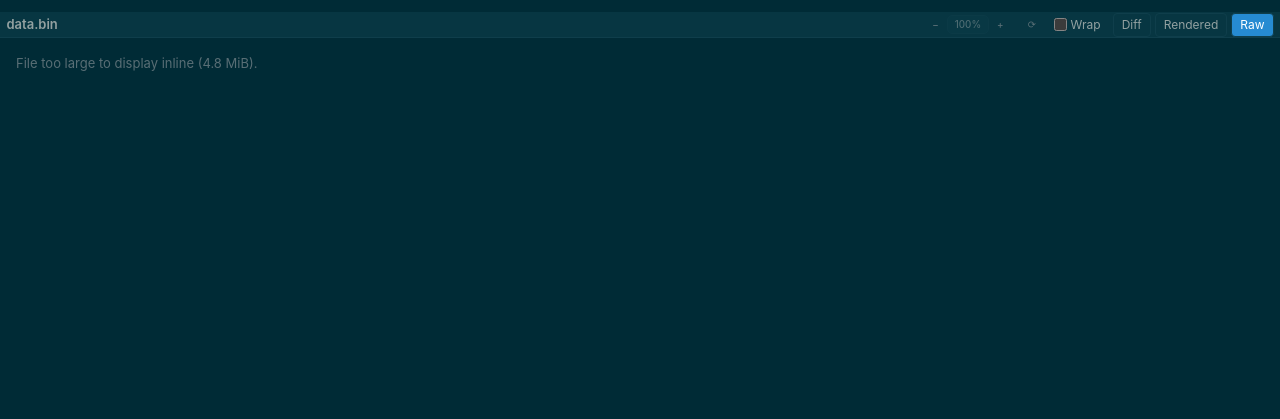
Test: ContentViewer › text-like Rendered vs Raw split (RawFile `highlight` prop) › too-large: Raw keeps its plain message; Rendered shows the graceful placeholder, from one read (no full-byte-read)
The width and height of the screenshot is (1280, 419).
Expected: the text "File too large to display inline (4.8 MiB)." is shown, [16, 55, 258, 71]
Click the tab "Rendered" at (1191, 24), box [1155, 12, 1227, 36]
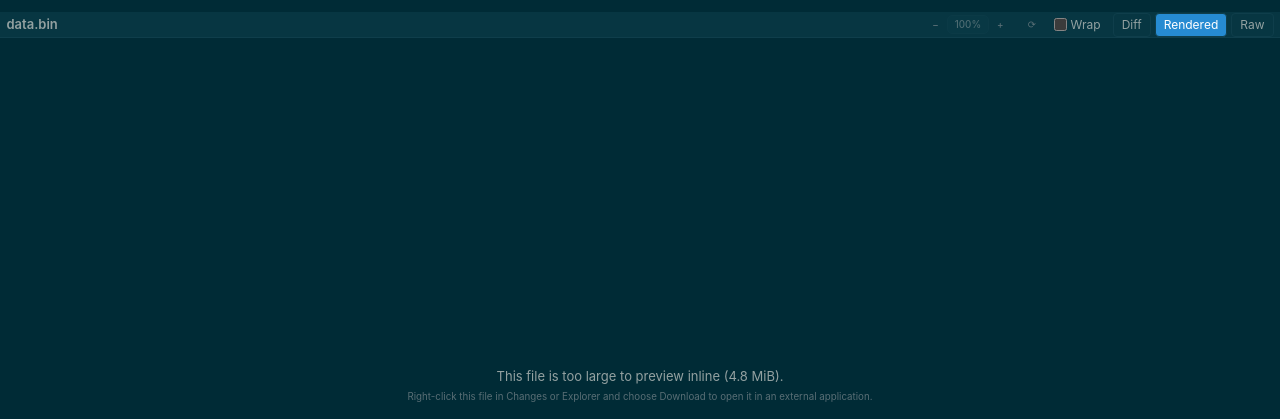
Now the text "This file is too large to preview inline (4.8 MiB)." is shown, box [496, 367, 783, 387]
Now the text "Right-click this file in Changes or Explorer and choose Download" is shown, box [408, 391, 872, 402]
